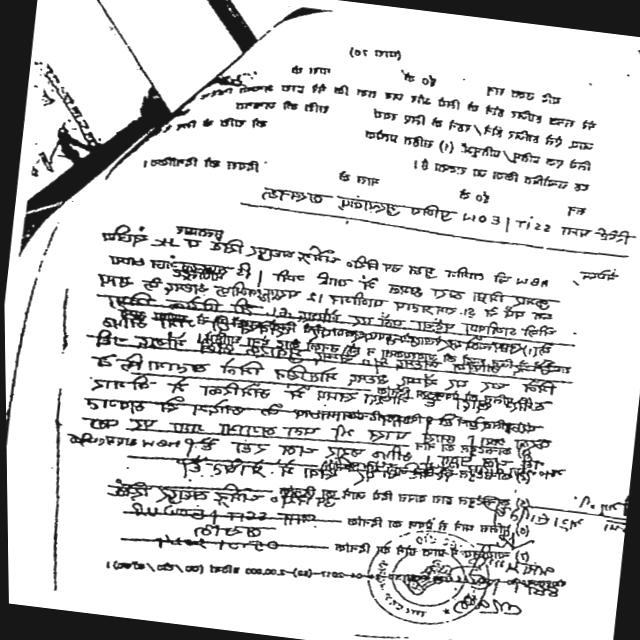logo: (359, 521, 493, 633)
